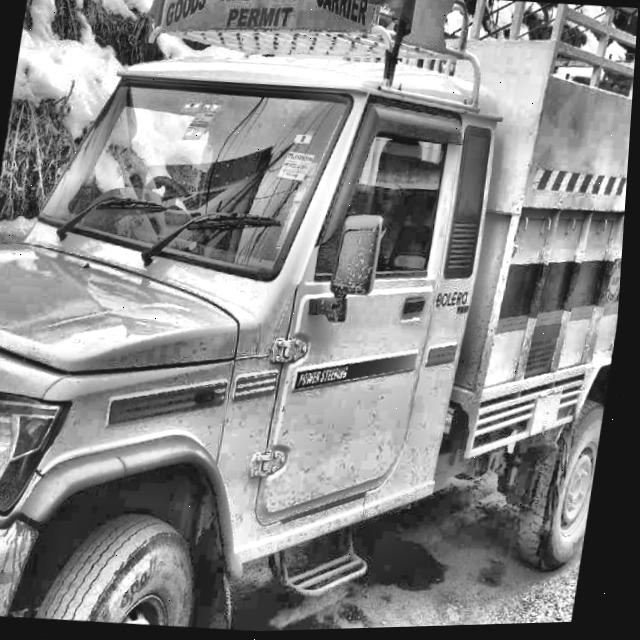light_vehicle: (0, 30, 638, 640)
